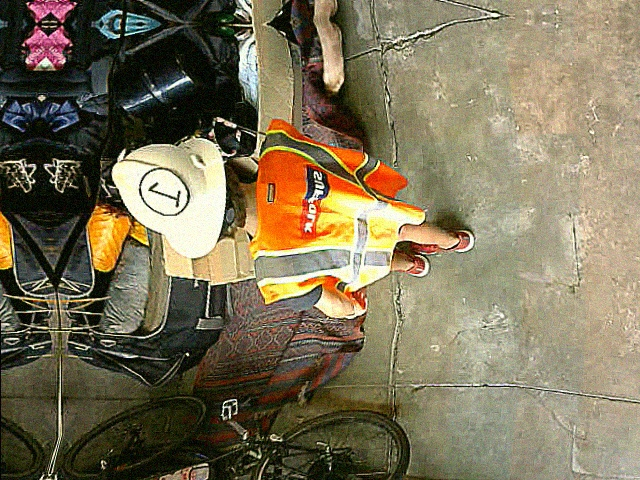one: (135, 168, 190, 216)
